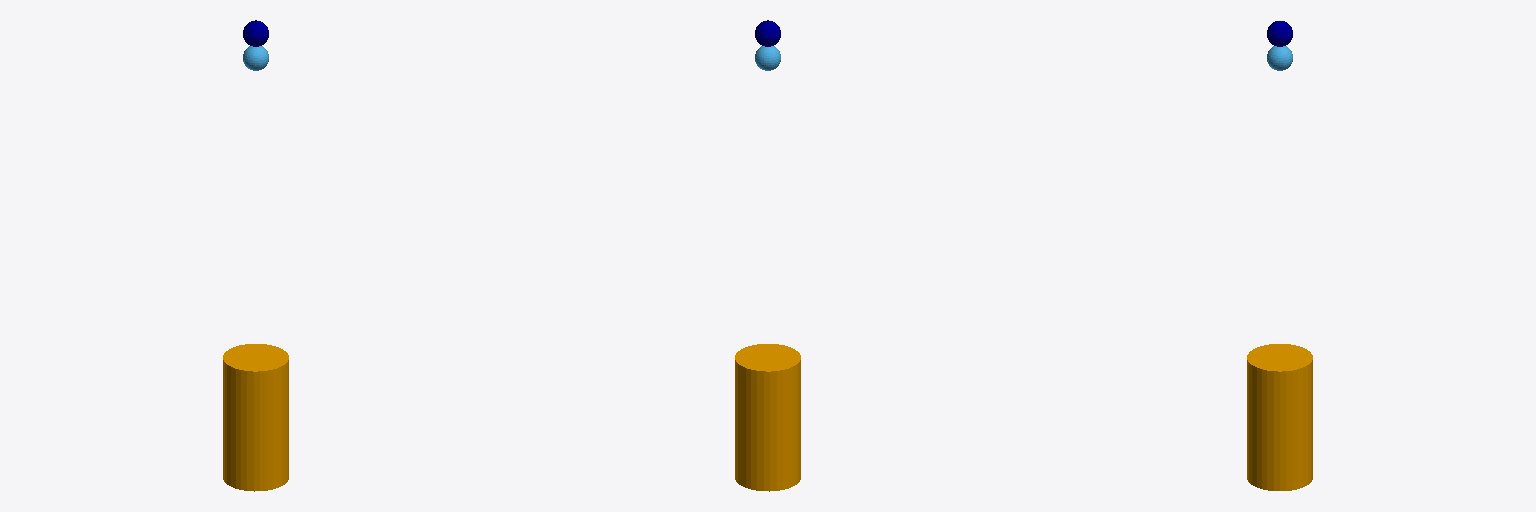
The robot description file, URDF, robot "PBot":
<?xml version="1.0" ?>
<!--simple pbot-->

<robot name="PBot">
    <link name="base_link">
        <inertial>
            <origin xyz="0.0 0.0 0.0" rpy="0 0 0" />
            <mass value="1" />
            <inertia ixx="0.1" iyy="0.1" izz="0.1" ixy="0" ixz="0" iyz="0" />
        </inertial>
        <collision>
            <origin xyz="0.0 0.0 -1.0" rpy="0 0 0" />
            <geometry>
                <cylinder radius="0.25" length="1.0"/>
            </geometry>
        </collision>
        <visual>
            <origin xyz="0.0 0.0 -1.0" rpy="0 0 0" />
            <geometry>
                <cylinder radius="0.25" length="1.0"/>
            </geometry>
        </visual>
    </link>
    <link name="link0">
        <inertial>
            <origin xyz="0.0 0.0 0.0" rpy="0 0 0" />
            <mass value="1" />
            <inertia ixx="0.1" iyy="0.1" izz="0.1" ixy="0" ixz="0" iyz="0" />
        </inertial>
        <collision>
            <origin xyz="0.0 0.0 0.0" rpy="0 0 0" />
            <geometry>
                <sphere radius="0.1" />
            </geometry>
        </collision>
        <visual>
            <origin xyz="0.0 0.0 0.0" rpy="0 0 0" />
            <geometry>
                <sphere radius="0.1" />
            </geometry>
        </visual>
    </link>
    <link name="link1">
        <inertial>
            <origin xyz="0.0 0.0 0.0" rpy="0 0 0" />
            <mass value="1" />
            <inertia ixx="0.1" iyy="0.1" izz="0.1" ixy="0" ixz="0" iyz="0" />
        </inertial>
        <visual>
            <origin xyz="0.0 0.0 0.0" rpy="0 0 0" />
            <geometry>
                <sphere radius="0.1" />
            </geometry>
            <material name="material_blue">
                <color rgba="0.0 0.0 0.6 1.0" />
            </material>
        </visual>
    </link>
    
    <joint name="j0" type="prismatic">
        <parent link="base_link" />
        <child link="link0" />
        <origin xyz="0.000000 0.000000 2.000000" rpy="-0.000000 0.000000 -0.000000" />
        <axis xyz="0 0 1" />
        <limit lower="-2.967" upper="2.967" effort="176" velocity="1.7104" />
    </joint>
    <joint name="j1" type="fixed">
        <parent link="link0" />
        <child link="link1" />
        <origin xyz="0.000000 0.000000 0.200000" rpy="-0.000000 0.000000 -0.000000" />
        <limit lower="-2.967" upper="2.967" effort="176" velocity="1.7104" />
    </joint>
    
</robot>

--- Render facts (derived) ---
3 views of the same robot in one strip: view 1: azimuth 30°, elevation 25°; view 2: azimuth 150°, elevation 25°; view 3: azimuth 270°, elevation 25° (orthographic).
Robot: PBot — 3 links, 2 joints (1 prismatic, 1 fixed); root link base_link; default pose: every joint at zero.
Links seen in each view (by area): view 1: base_link, link1, link0; view 2: base_link, link1, link0; view 3: base_link, link1, link0.
Boxes of the visible links, bbox=[...] form: base_link: bbox=[223, 344, 288, 491]; link1: bbox=[243, 20, 268, 46]; link0: bbox=[243, 46, 268, 70]; base_link: bbox=[735, 344, 800, 491]; link1: bbox=[755, 20, 780, 46]; link0: bbox=[755, 46, 780, 70]; base_link: bbox=[1247, 344, 1312, 490]; link1: bbox=[1267, 21, 1292, 46]; link0: bbox=[1267, 46, 1292, 70].
Size in the robot's own frame: 0.5 by 0.5 by 3.8 metres.
Geometry: primitives only (box / cylinder / sphere), no mesh files.
